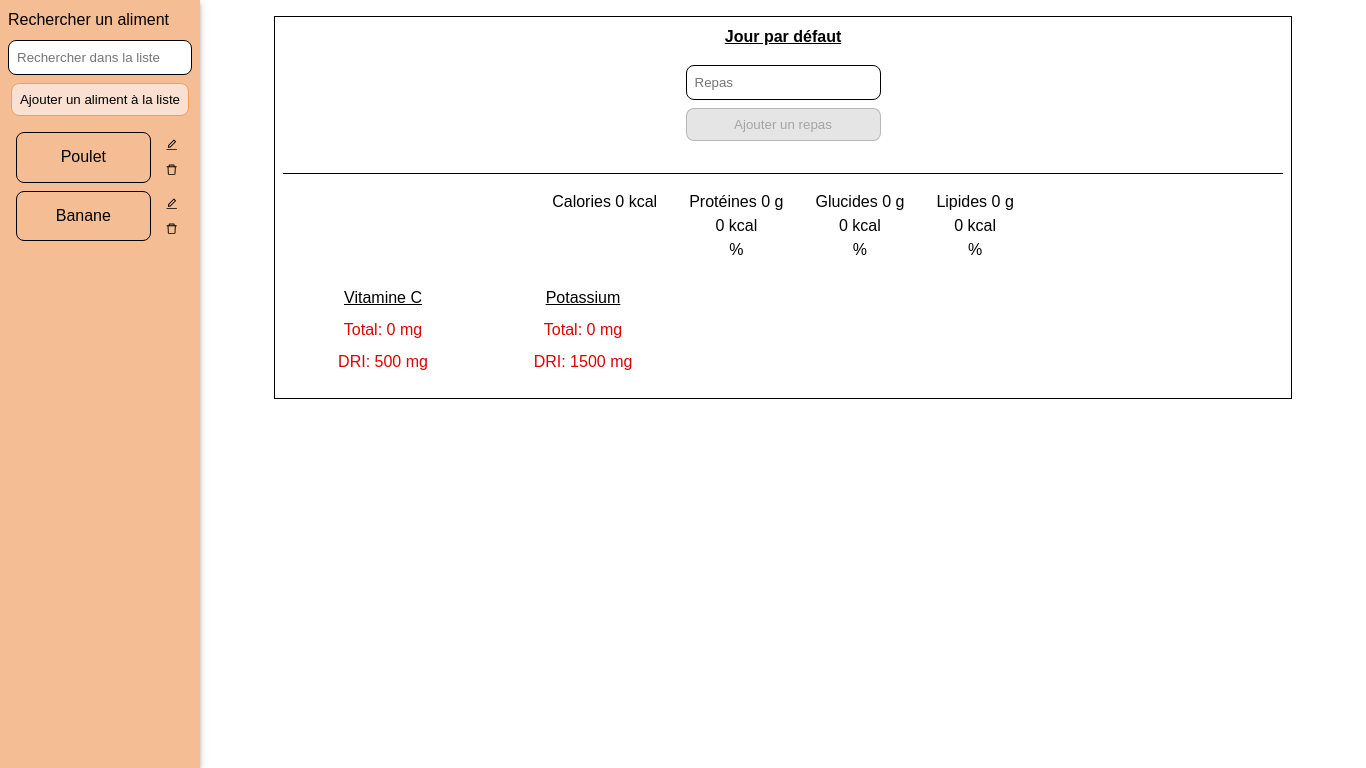
Scenario: Analyse › should add and remove meal
Type "déjeuner" into the field labelled "Repas". click: coordinates (783, 82)
box: [686,65,880,100]
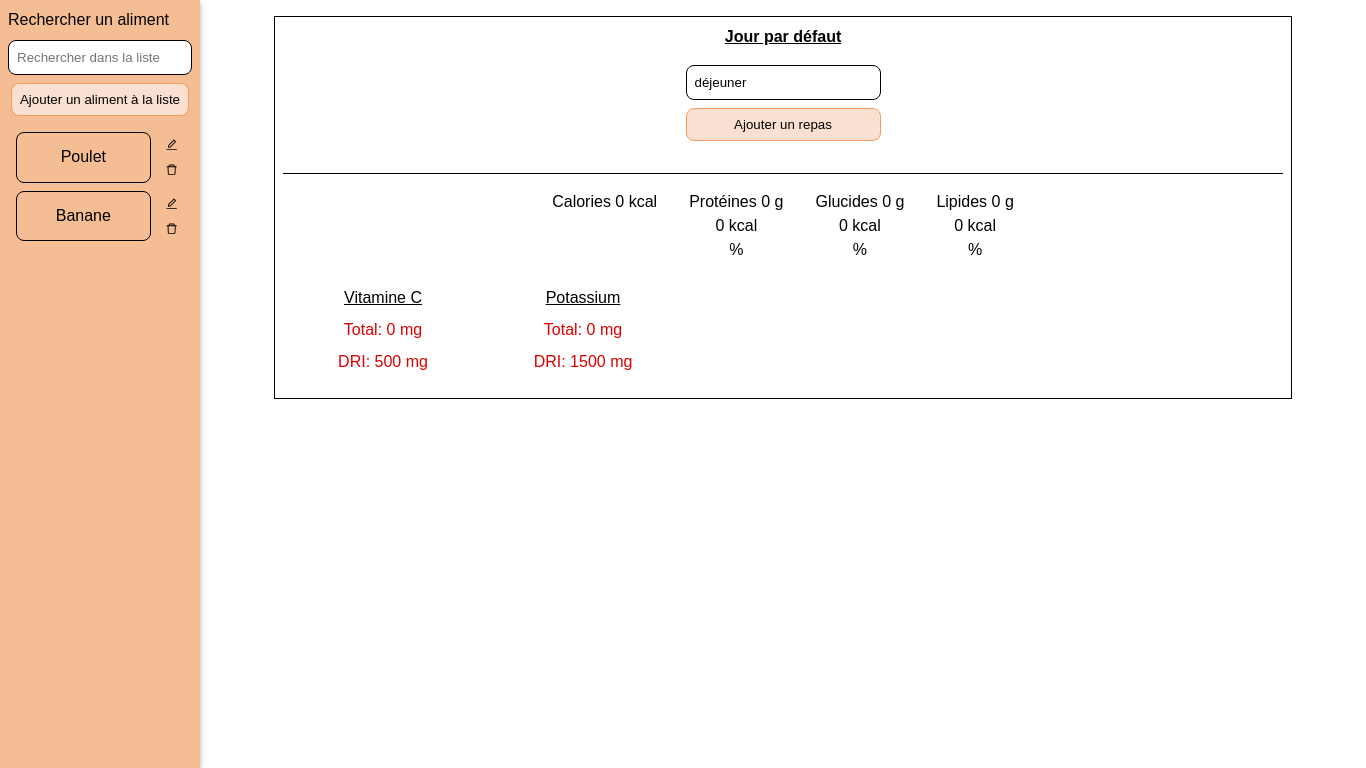
Click the button "Ajouter un repas". click: coordinates (783, 124)
box: [686,108,880,141]
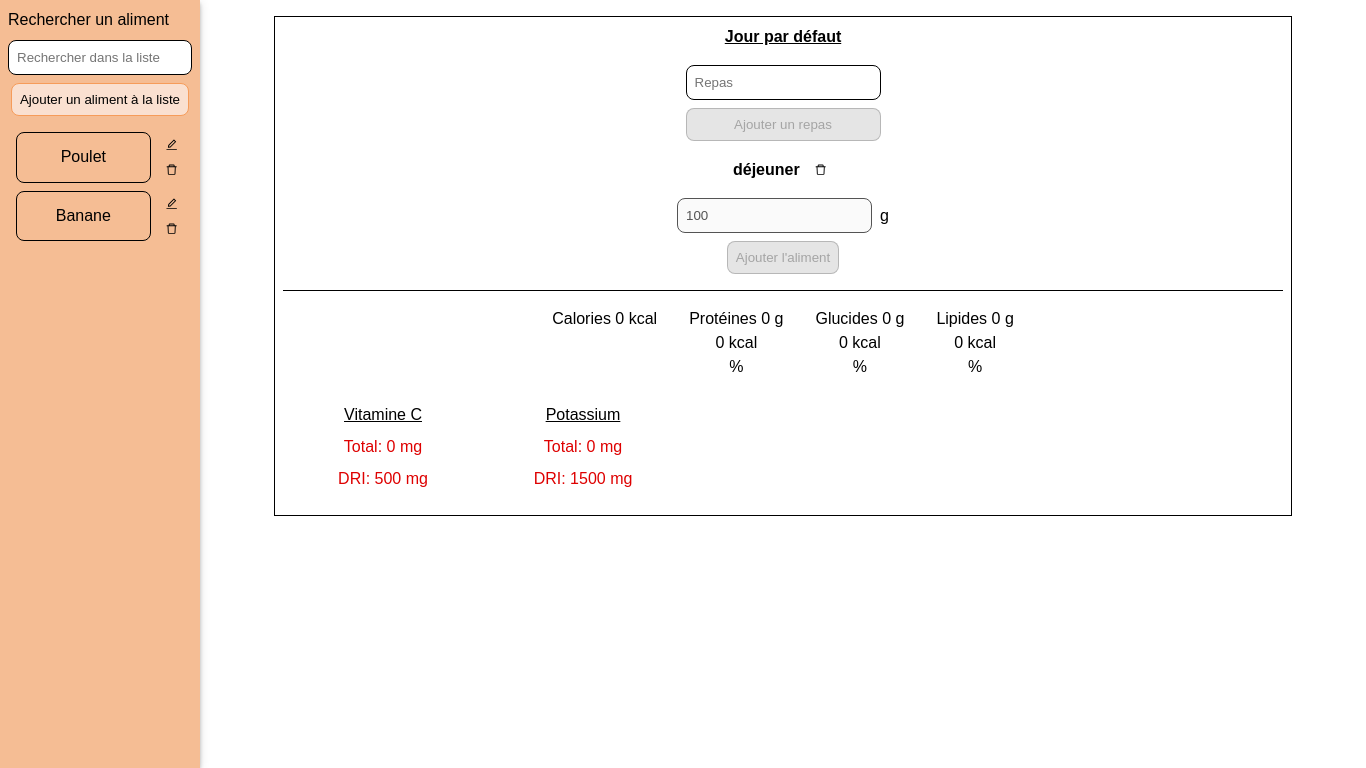
Expected: the element "déjeuner" is shown, [677,157,889,274]
Click the button named "supprimer déjeuner". click: coordinates (820, 170)
box: [808,157,833,182]
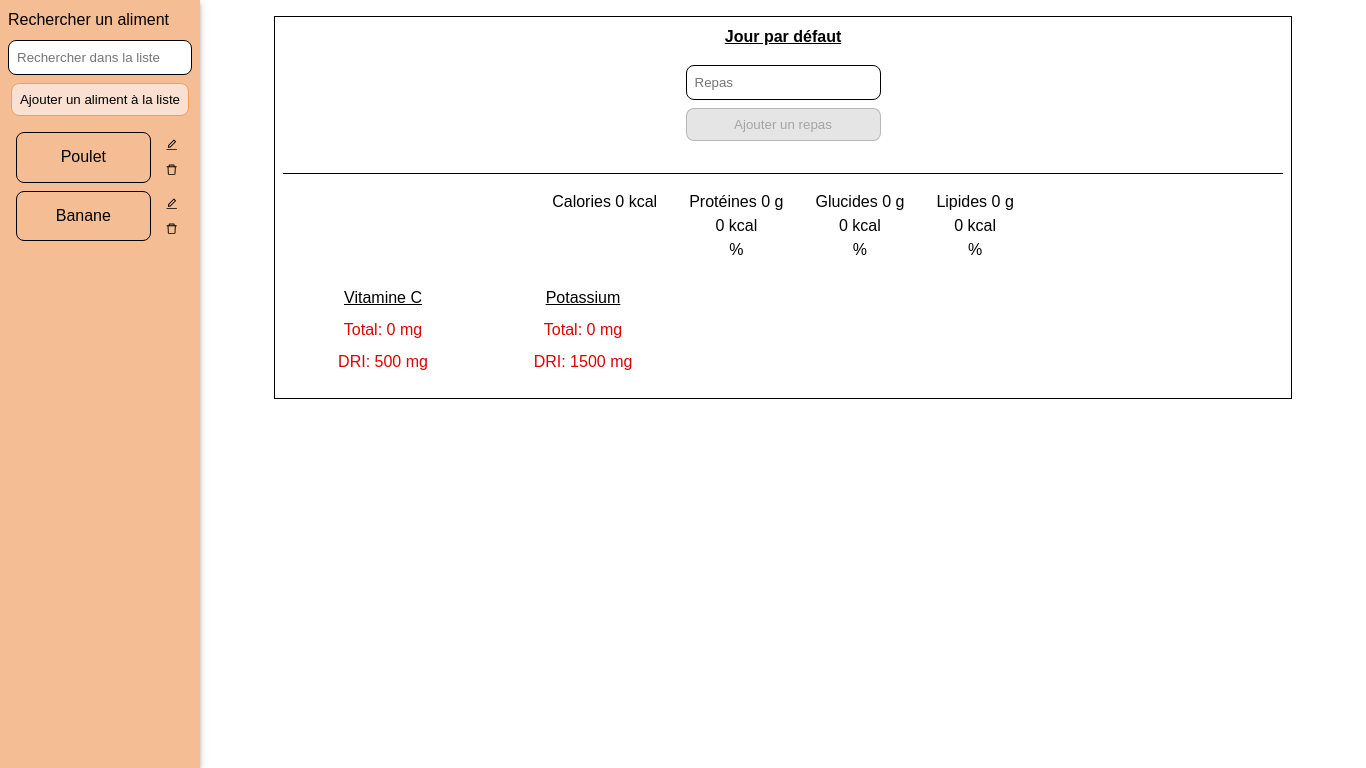
Expected: the element "déjeuner" is gone
